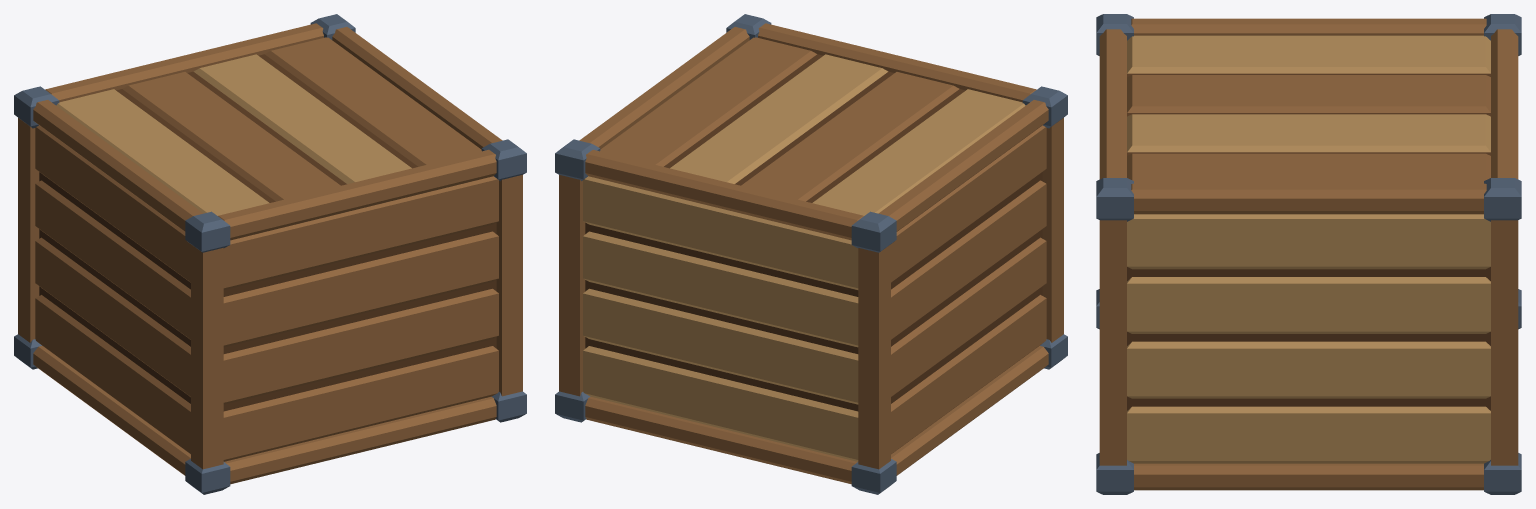
File: Crate_10.glb
3 views of the same model, side by side, from view 1: azimuth 30°, elevation 25°; view 2: azimuth 150°, elevation 25°; view 3: azimuth 270°, elevation 25° (orthographic). The views are drawn at different scales.
Parts seen in each view (by area): view 1: Crate_10; view 2: Crate_10; view 3: Crate_10.
Part boxes in pixels (x1,y1,x2,y2): Crate_10: [14, 14, 526, 494]; Crate_10: [555, 14, 1067, 494]; Crate_10: [1096, 14, 1521, 494].
Size of the model in its own units: 2.5 by 1.99 by 2.5.
